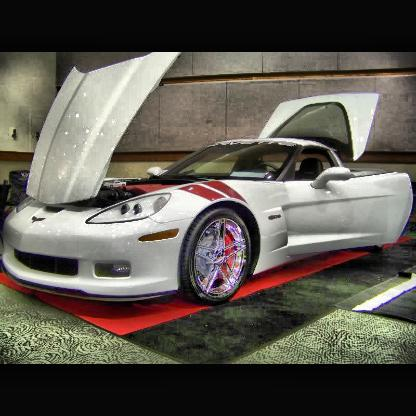Chevrolet Corvette Ron Fellows Edition Z06 2007: (6, 53, 416, 313)
